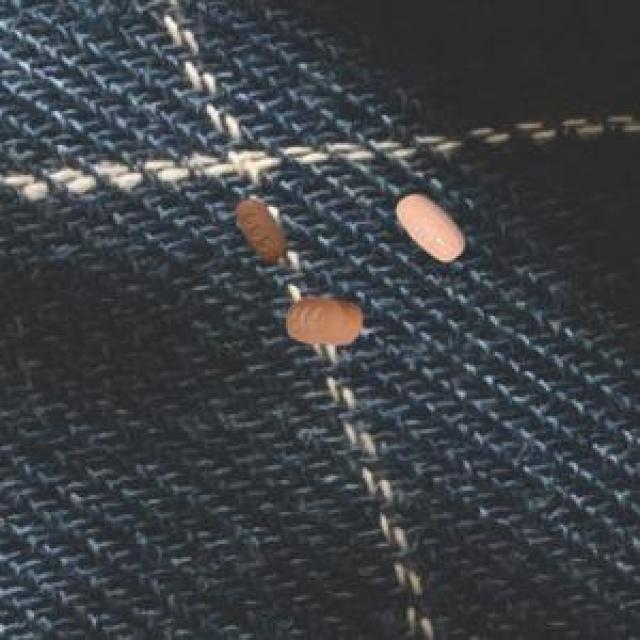Biogesic: (380, 177, 470, 265), (275, 287, 369, 365), (213, 183, 297, 267)
